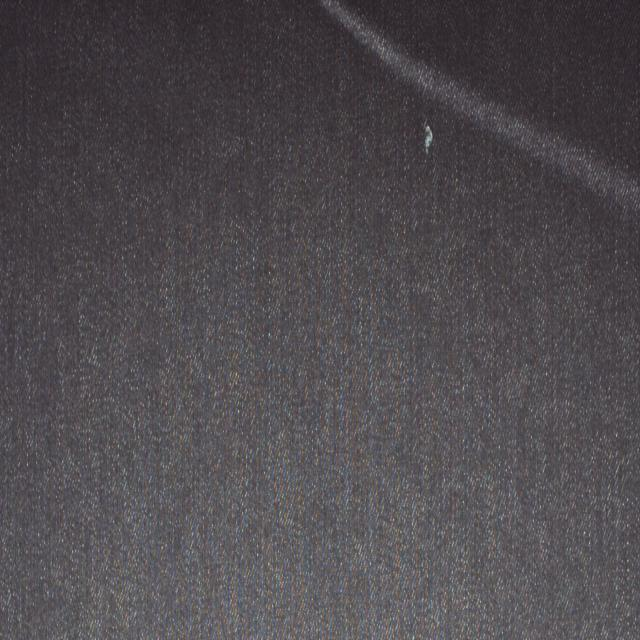Knot: (424, 123, 434, 156)
Stain: (322, 0, 640, 218)
